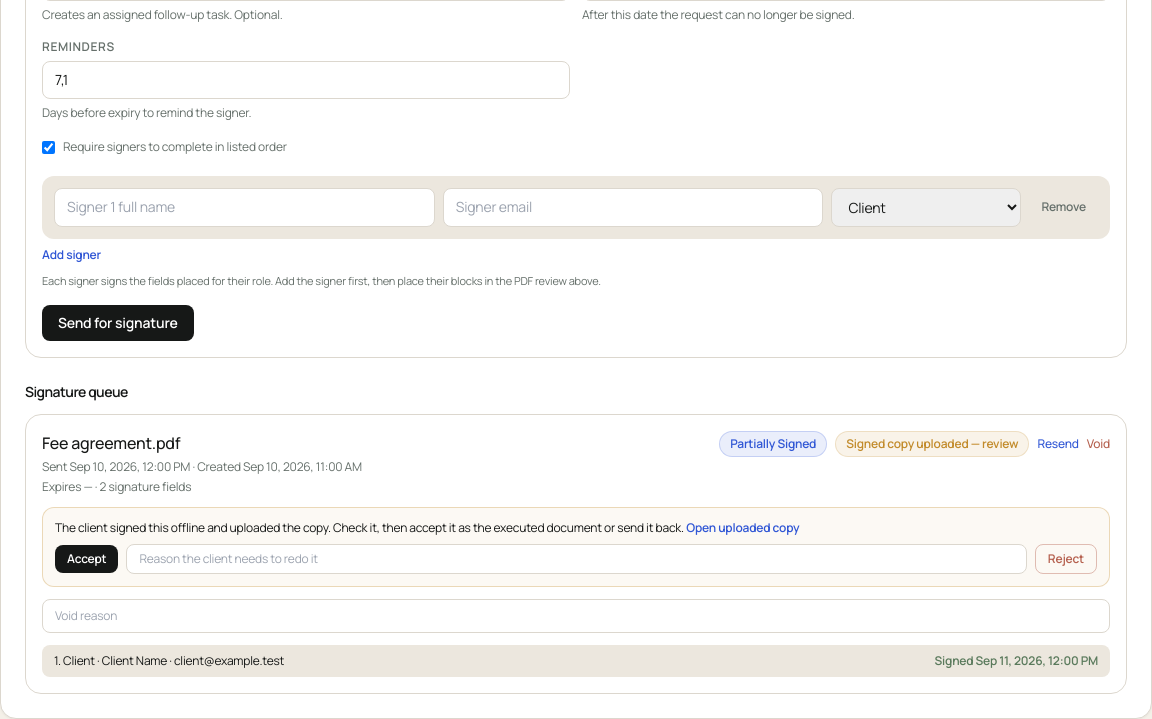
Test: lets staff accept an uploaded signed copy
(page scrolled)
Expected: the text "Signed copy uploaded — review" is shown, [835, 431, 1029, 457]
Expected: the text "Expires — · 2 signature fields" is shown, [42, 478, 191, 495]
Click the button "Accept" at (87, 559), box [55, 545, 118, 573]
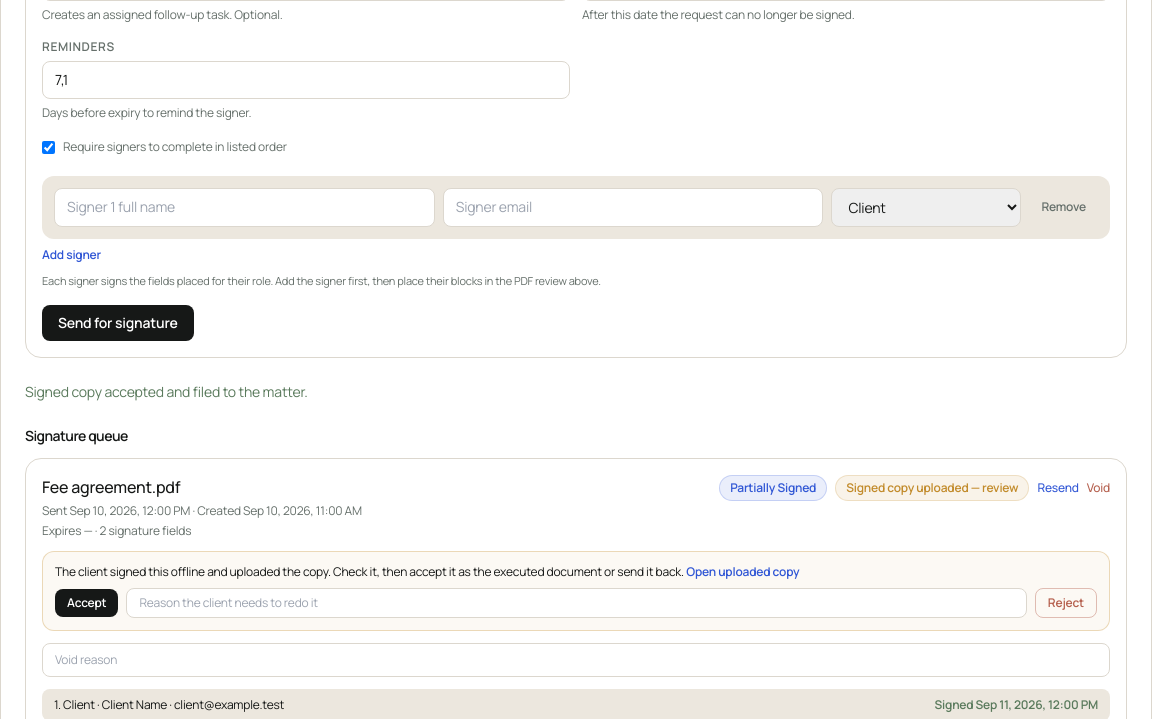
Expected: the text "Signed copy accepted and filed to the matter." is shown, [25, 382, 308, 401]
